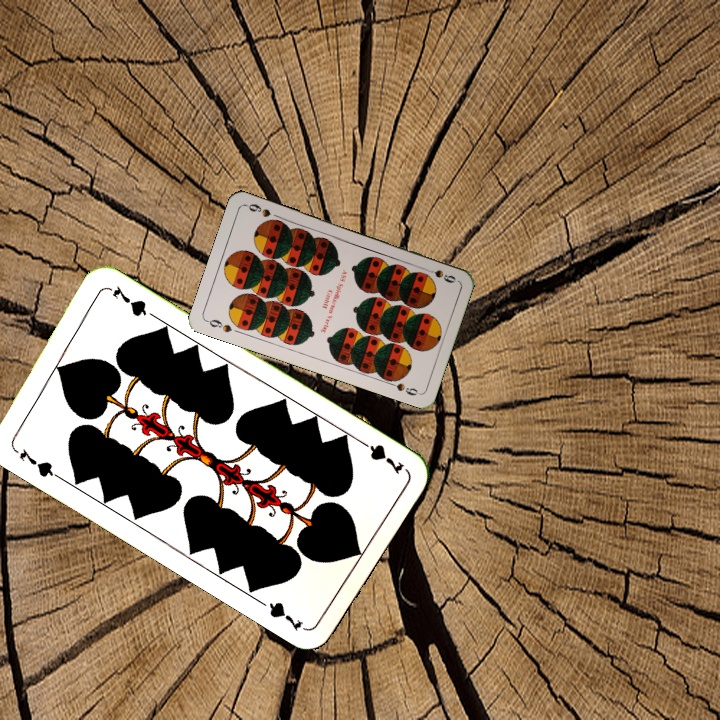G7: (353, 435, 407, 477), (15, 445, 61, 480)
S9: (419, 264, 458, 285), (202, 315, 235, 335)
